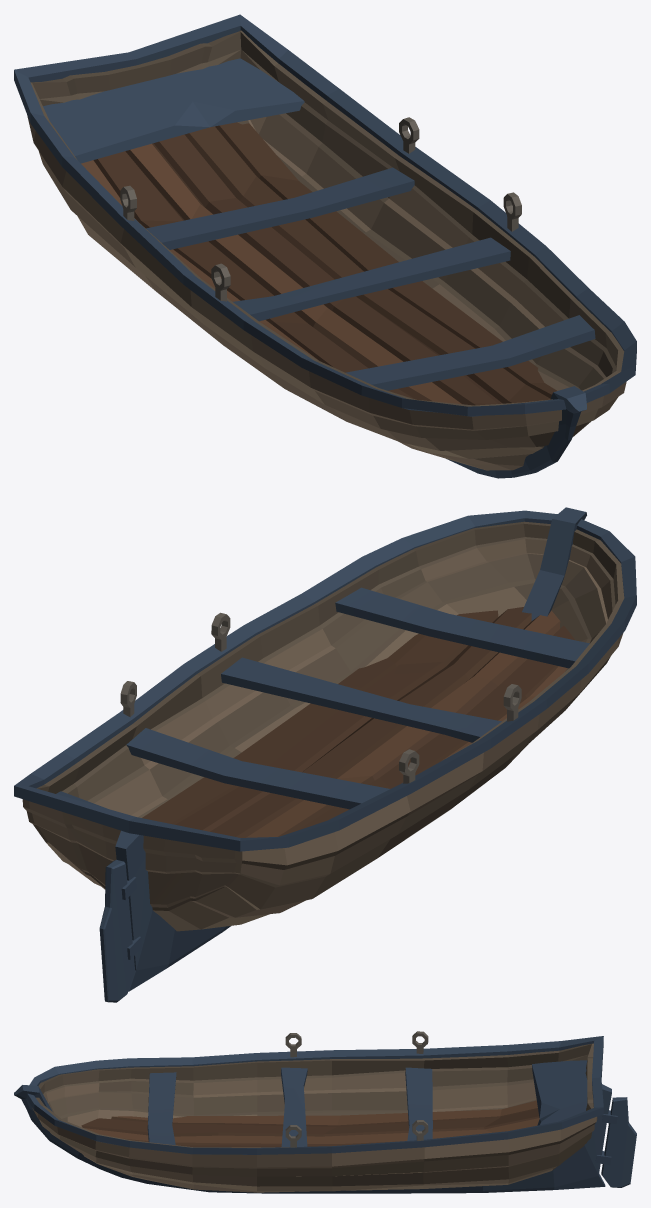
File: SM_Veh_Boat_Rowing_01_Hull.glb
The picture shows the model from 3 angles, top to bottom: view 1: azimuth 30°, elevation 25°; view 2: azimuth 150°, elevation 25°; view 3: azimuth 270°, elevation 25°; orthographic projection. The views are drawn at different scales.
Visible parts, largest first — view 1: SM_Veh_Boat_Rowing_01_Hull; view 2: SM_Veh_Boat_Rowing_01_Hull; view 3: SM_Veh_Boat_Rowing_01_Hull.
Boxes of the visible parts, x1,y1,x2,y2 form: SM_Veh_Boat_Rowing_01_Hull: (14,14,636,478); SM_Veh_Boat_Rowing_01_Hull: (14,507,636,1002); SM_Veh_Boat_Rowing_01_Hull: (14,1031,636,1193).
Bounding box in the file's own units: 0.0198 × 0.0116 × 0.0539.
